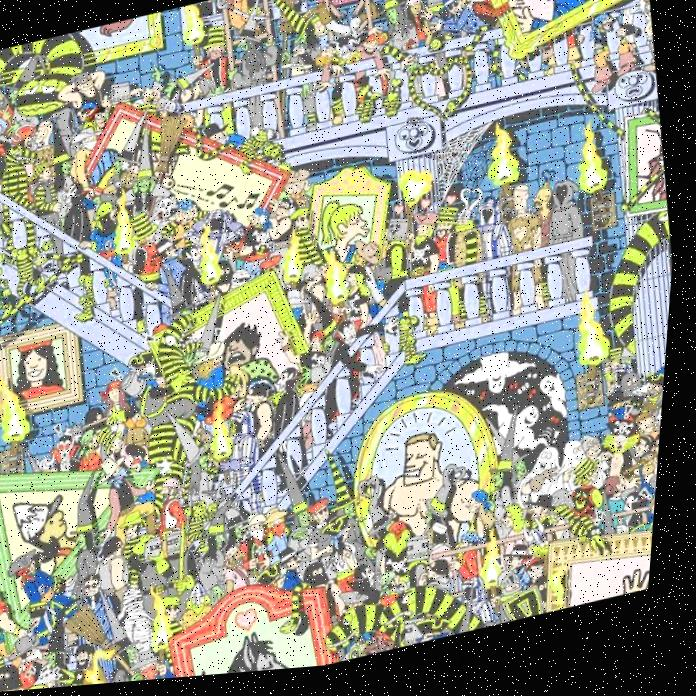waldo: (84, 107, 110, 135)
